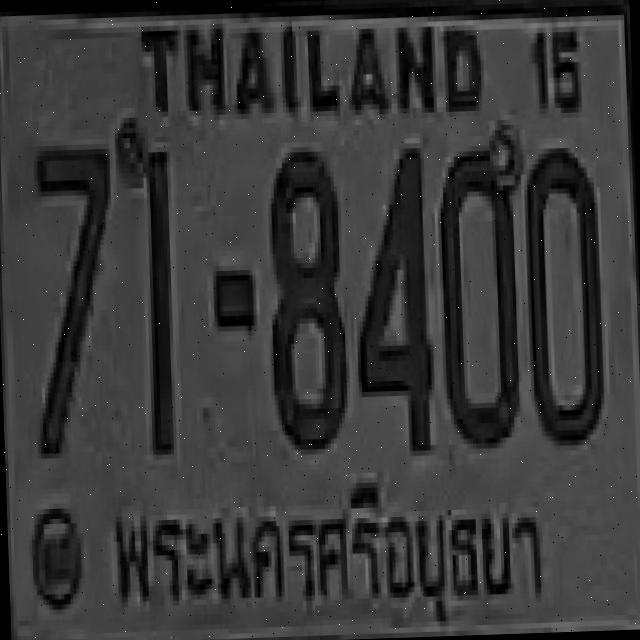0: (434, 140, 526, 444), (522, 144, 605, 444)
1: (138, 142, 180, 454)
4: (349, 142, 435, 452)
7: (27, 141, 119, 456)
8: (262, 146, 348, 450)
Ayutthaya: (102, 456, 550, 638)
